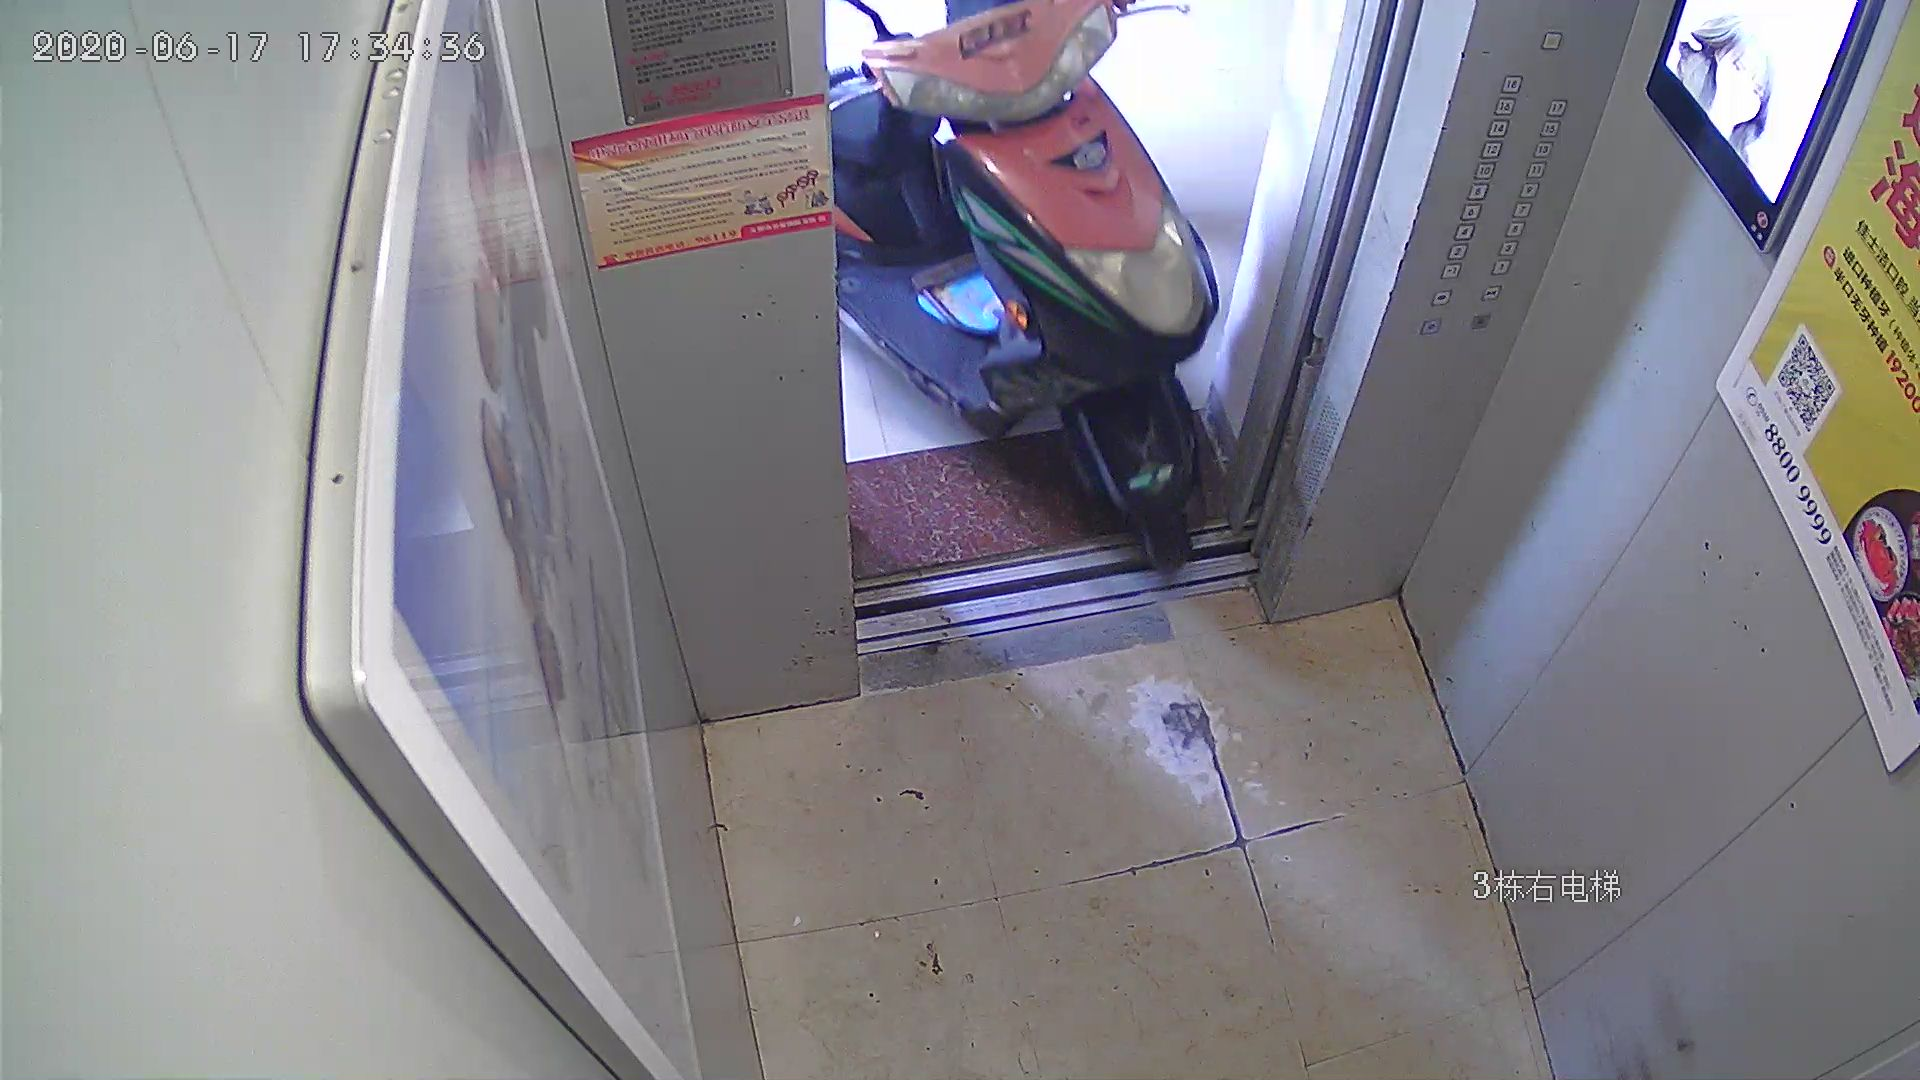Electric-bicycle: (829, 1, 1211, 534)
